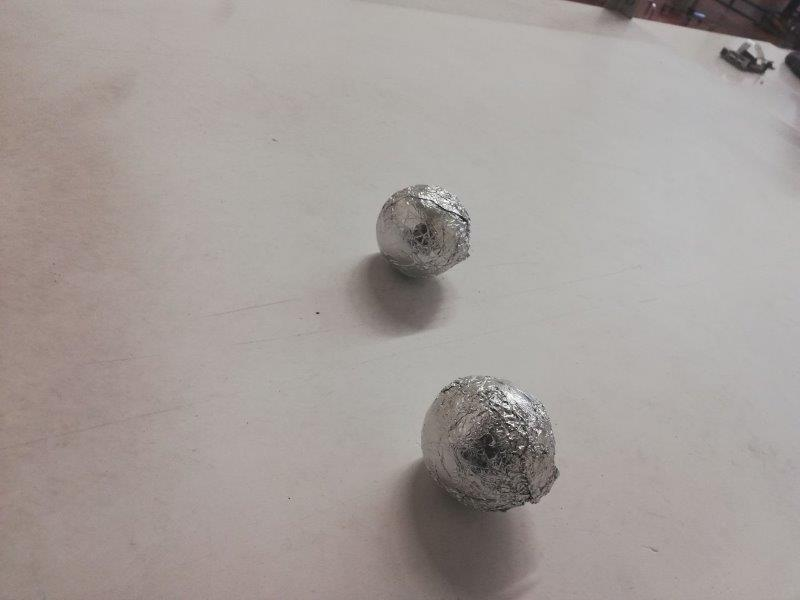bianca: (419, 372, 562, 512), (376, 184, 470, 276)
